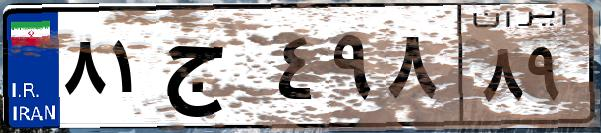1: (110, 28, 158, 98)
4: (270, 28, 330, 110)
8: (385, 28, 445, 110), (57, 26, 110, 100), (475, 38, 525, 113)
9: (330, 28, 385, 110), (525, 38, 570, 115)
ج: (158, 20, 270, 120)
